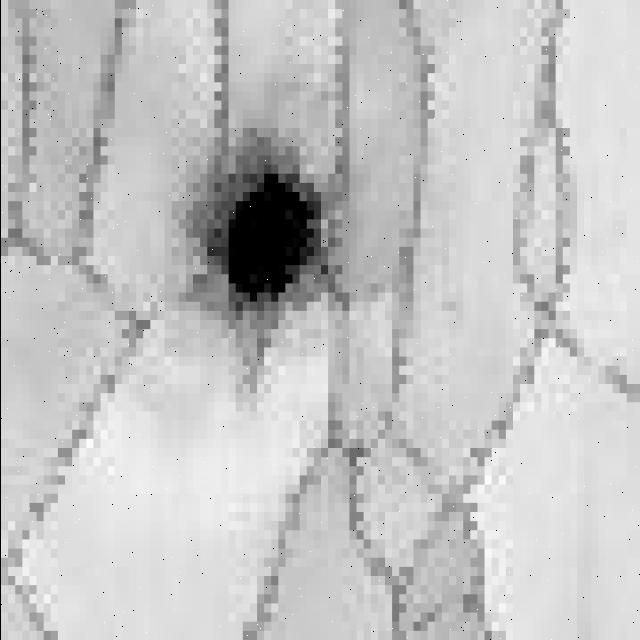good_void: (169, 119, 351, 384)
